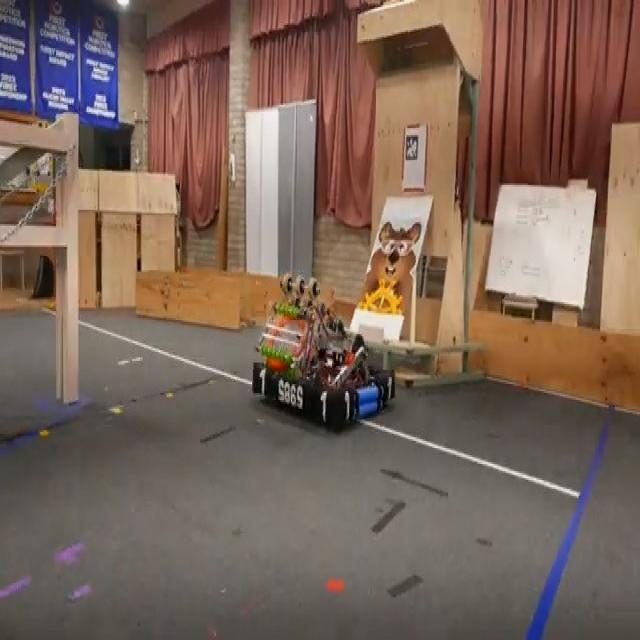note: (520, 0, 638, 186)
